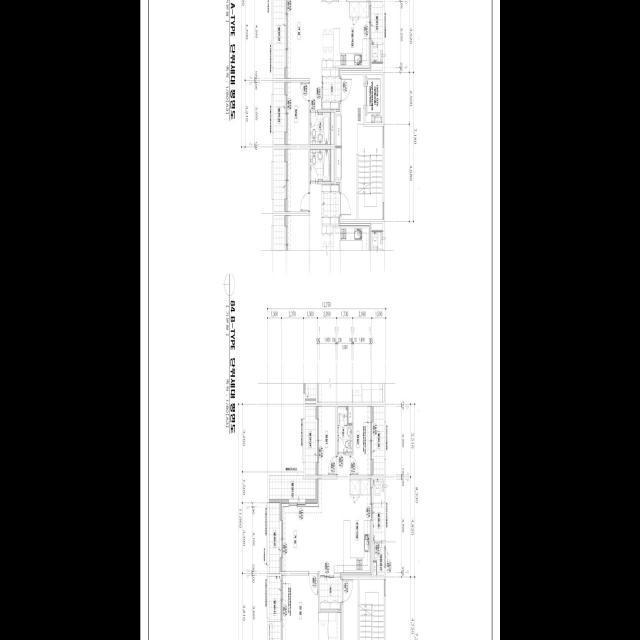background: (140, 0, 500, 640)
space_balconi: (269, 476, 315, 503), (273, 0, 286, 79), (269, 503, 281, 574), (372, 406, 384, 475), (305, 406, 317, 475), (273, 82, 286, 145), (273, 149, 286, 212), (372, 479, 384, 540), (269, 576, 280, 640), (371, 1, 382, 62), (273, 216, 286, 250)
space_bedroom: (282, 575, 328, 640), (287, 82, 308, 145), (287, 149, 308, 212), (351, 406, 370, 475), (319, 406, 335, 475)
space_dressroom: (328, 612, 340, 640)
space_elevator: (365, 74, 382, 122)
space_elevator_hall: (342, 75, 365, 219), (343, 579, 358, 640)
space_front: (319, 573, 341, 610), (322, 68, 340, 110), (321, 184, 339, 226)
space_kitchen: (322, 0, 369, 68), (343, 479, 370, 573)
space_living_room: (283, 455, 349, 576), (287, 0, 322, 109)
space_other: (373, 543, 384, 575), (336, 116, 341, 146), (336, 148, 341, 178), (331, 112, 334, 145), (331, 149, 334, 182), (348, 406, 352, 423), (371, 224, 382, 230), (371, 64, 382, 70), (373, 563, 376, 575)
space_staircase: (357, 124, 382, 219), (360, 579, 384, 640)
space_toilet: (337, 406, 352, 453), (310, 149, 330, 182), (310, 112, 330, 145)
